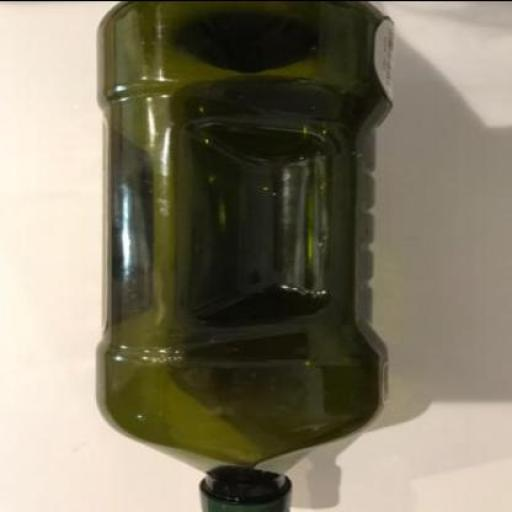metal: (200, 475, 296, 511)
plastic: (98, 1, 400, 511)
